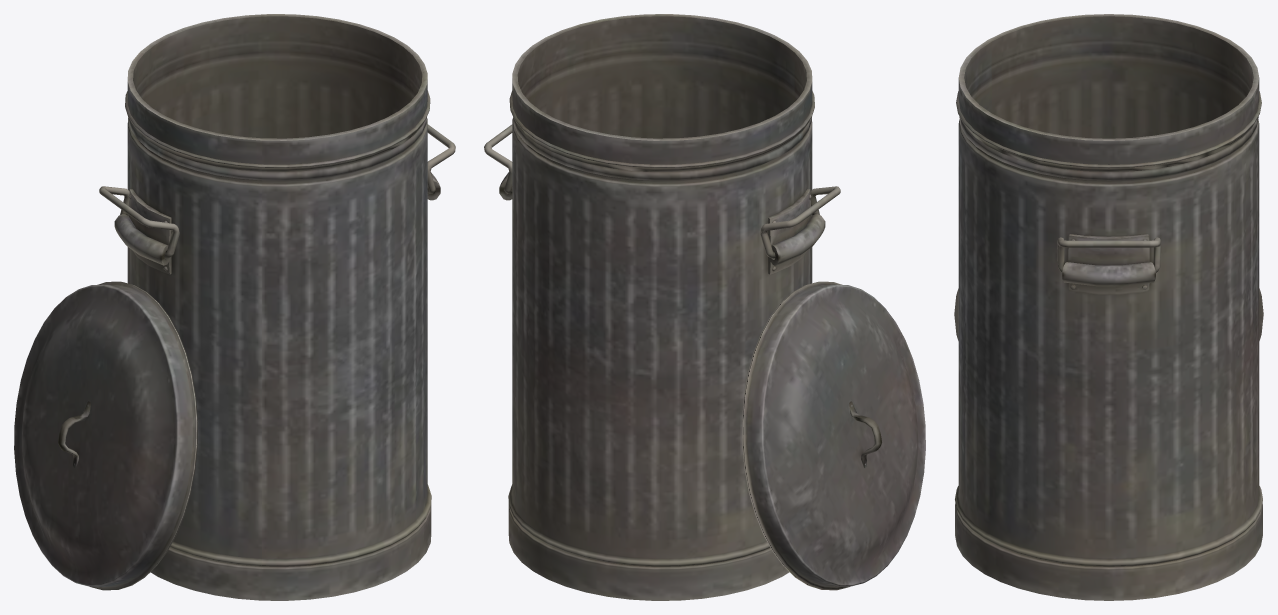
Rendered from poubelle_metal_lod0.glb.
3 views of the same model, side by side, from view 1: azimuth 30°, elevation 25°; view 2: azimuth 150°, elevation 25°; view 3: azimuth 270°, elevation 25° (orthographic).
Parts seen in each view (by area): view 1: metal_trash_can_handle_left; view 2: metal_trash_can_handle_left; view 3: metal_trash_can_handle_left.
Part boxes in pixels (box(x1,y1,x2,y2)): metal_trash_can_handle_left: box(14, 14, 455, 600); metal_trash_can_handle_left: box(484, 14, 925, 600); metal_trash_can_handle_left: box(954, 14, 1263, 600).
Size of the model in its own units: 0.7773 by 0.9062 by 0.5543.
1 material, 1 textured.
